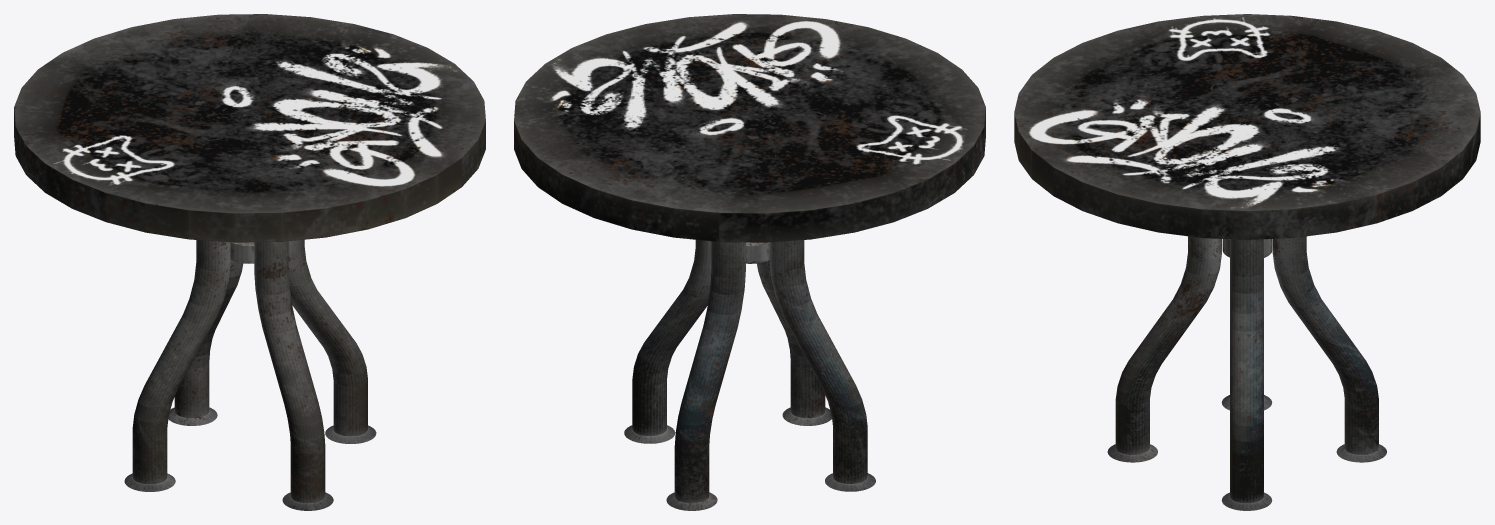
The model's file is Ext_Mesa_V3.glb.
3 views of the same model, side by side, from view 1: azimuth 30°, elevation 25°; view 2: azimuth 150°, elevation 25°; view 3: azimuth 270°, elevation 25° (orthographic).
Parts seen in each view (by area): view 1: Ext_Mesa_V3; view 2: Ext_Mesa_V3; view 3: Ext_Mesa_V3.
Boxes of the visible parts, x1,y1,x2,y2 form: Ext_Mesa_V3: [14, 14, 485, 510]; Ext_Mesa_V3: [514, 14, 985, 510]; Ext_Mesa_V3: [1014, 14, 1480, 510].
Bounding box in the file's own units: 1.1 × 0.8842 × 1.1.
Materials: 1 (1 with a texture image).
